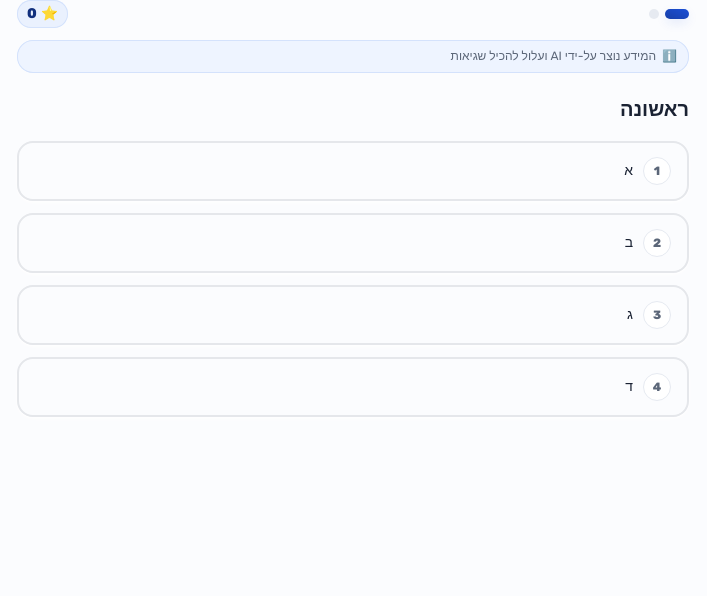
Scenario: LessonPlayer › המשך אחרי שאלה ראשונה → מציג את השאלה השנייה
Check: the text with test id "mcq-prompt" reads "ראשונה", box [620,96,689,120]
Step 1. Click the radio button with test id "mcq-option-0" → [353, 171], box [17,141,689,201]
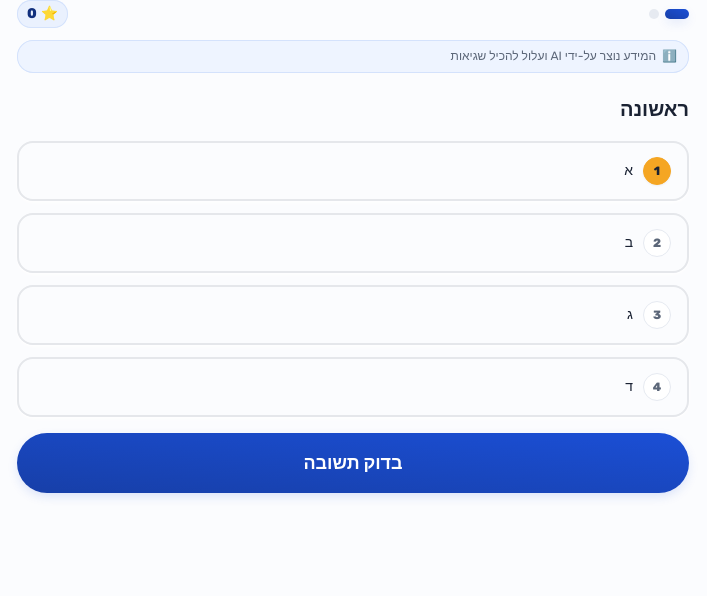
Step 2. Click the button with test id "check-answer-button" → [353, 463], box [17,433,689,493]
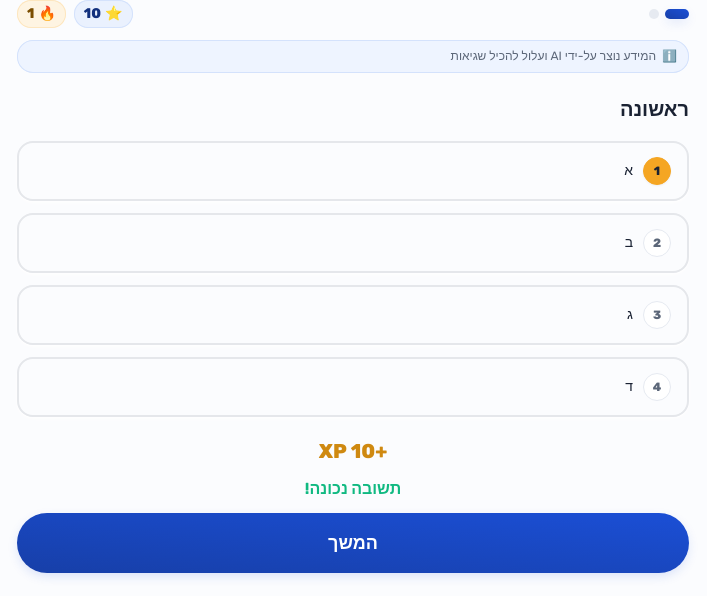
Step 3. Click the button with test id "continue-button" → [353, 543], box [17,513,689,573]
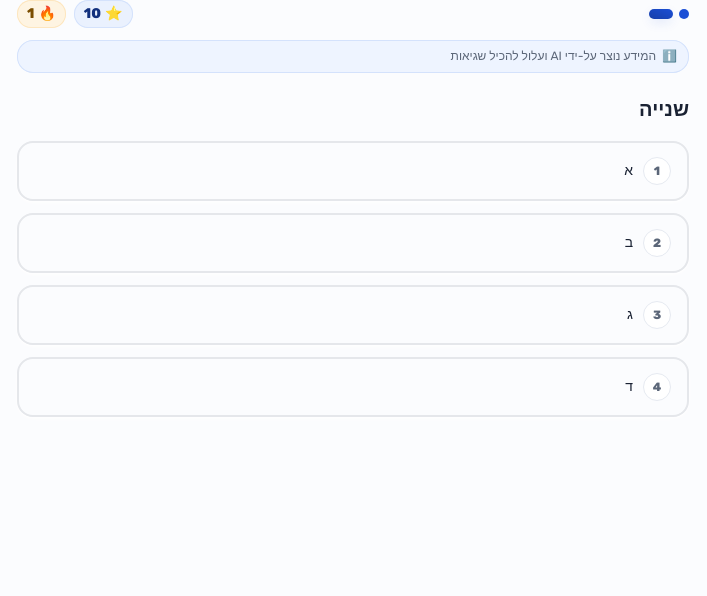
Check: the text with test id "mcq-prompt" reads "שנייה", box [639,96,689,120]
